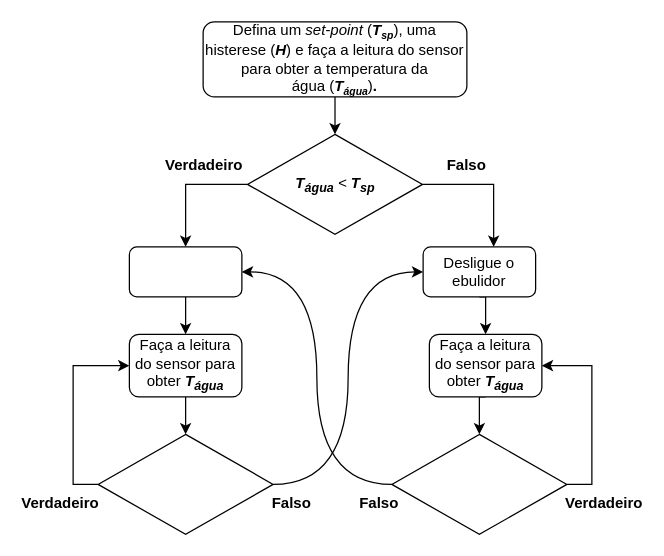
Some shapes in this 664 by 556 pixel diagram are drawn without their labels. Each missing label, with the centre of its shape:
"Ligue o ebulidor" belongs at (185,271).
"T água < T sp + H /2" belongs at (185,483).
"T água > T sp + H /2" belongs at (479,483).
